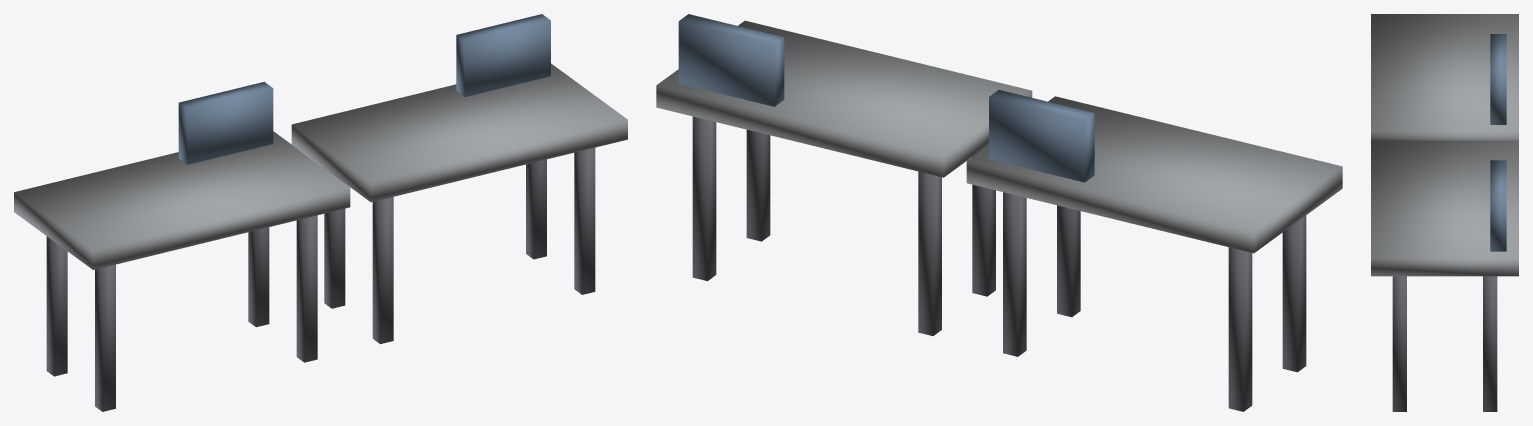
File: welding_table__cluster.glb
3 renders of one model, left to right at view 1: azimuth 30°, elevation 25°; view 2: azimuth 150°, elevation 25°; view 3: azimuth 270°, elevation 25°, orthographic. The views are drawn at different scales.
Visible parts, largest first — view 1: world; view 2: world; view 3: world.
Part boxes in pixels (x1,y1,x2,y2): world: (14,14,627,411); world: (656,14,1342,411); world: (1371,14,1518,411).
Bounding box in the file's own units: 2.81 × 1.16 × 0.72.
